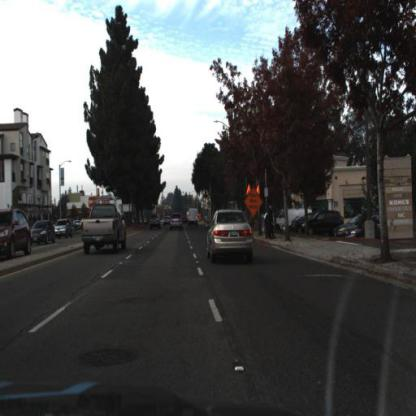car: (203, 202, 262, 268), (76, 194, 130, 257), (1, 210, 36, 259), (302, 208, 344, 239), (344, 213, 384, 242), (333, 214, 367, 241), (31, 218, 56, 246), (351, 217, 381, 240), (167, 208, 187, 236), (185, 203, 203, 234), (55, 216, 75, 243), (148, 211, 164, 236), (188, 208, 200, 228)
pedestrian: (263, 205, 273, 245), (268, 204, 276, 243), (267, 204, 274, 237), (265, 214, 270, 238)
truck: (274, 205, 312, 234), (276, 207, 308, 228)
